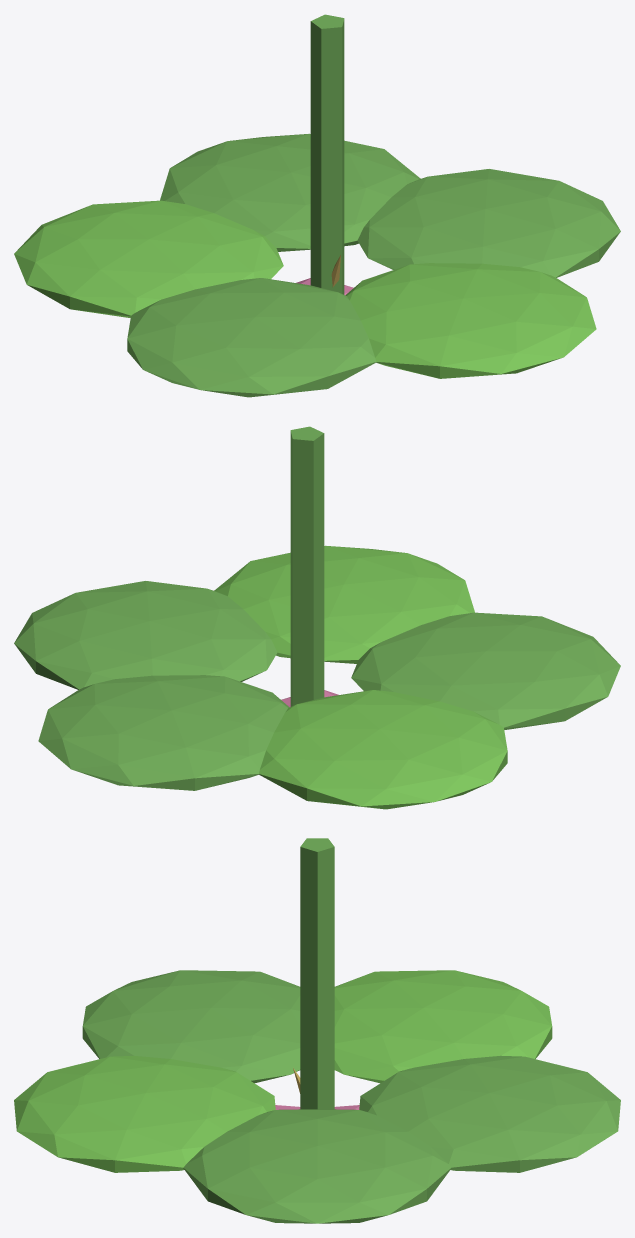
The model's file is hydrilla-verticillata.glb.
3 renders of one model, top to bottom at view 1: azimuth 30°, elevation 25°; view 2: azimuth 150°, elevation 25°; view 3: azimuth 270°, elevation 25°, orthographic.
Parts seen in each view (by area): view 1: pad2, pad1, pad3, pad0, pad4, stem; view 2: pad3, pad4, pad2, pad0, pad1, stem; view 3: pad0, pad1, pad4, pad3, pad2, stem.
Boxes of the visible parts, box(x1,y1,x2,y2) form: pad2: box(127, 278, 376, 397); pad1: box(345, 263, 596, 378); pad3: box(14, 200, 283, 317); pad0: box(357, 169, 620, 277); pad4: box(160, 133, 420, 251); stem: box(310, 14, 344, 294); pad3: box(258, 690, 507, 809); pad4: box(38, 675, 289, 790); pad2: box(351, 612, 620, 729); pad0: box(14, 581, 277, 689); pad1: box(214, 545, 474, 663); stem: box(290, 426, 324, 706); pad0: box(183, 1109, 451, 1223); pad1: box(14, 1055, 275, 1172); pad4: box(359, 1055, 620, 1172); pad3: box(334, 970, 552, 1083); pad2: box(82, 970, 300, 1083); stem: box(300, 838, 334, 1109).
Size of the model in its own units: 0.3968 by 0.2302 by 0.4031.
